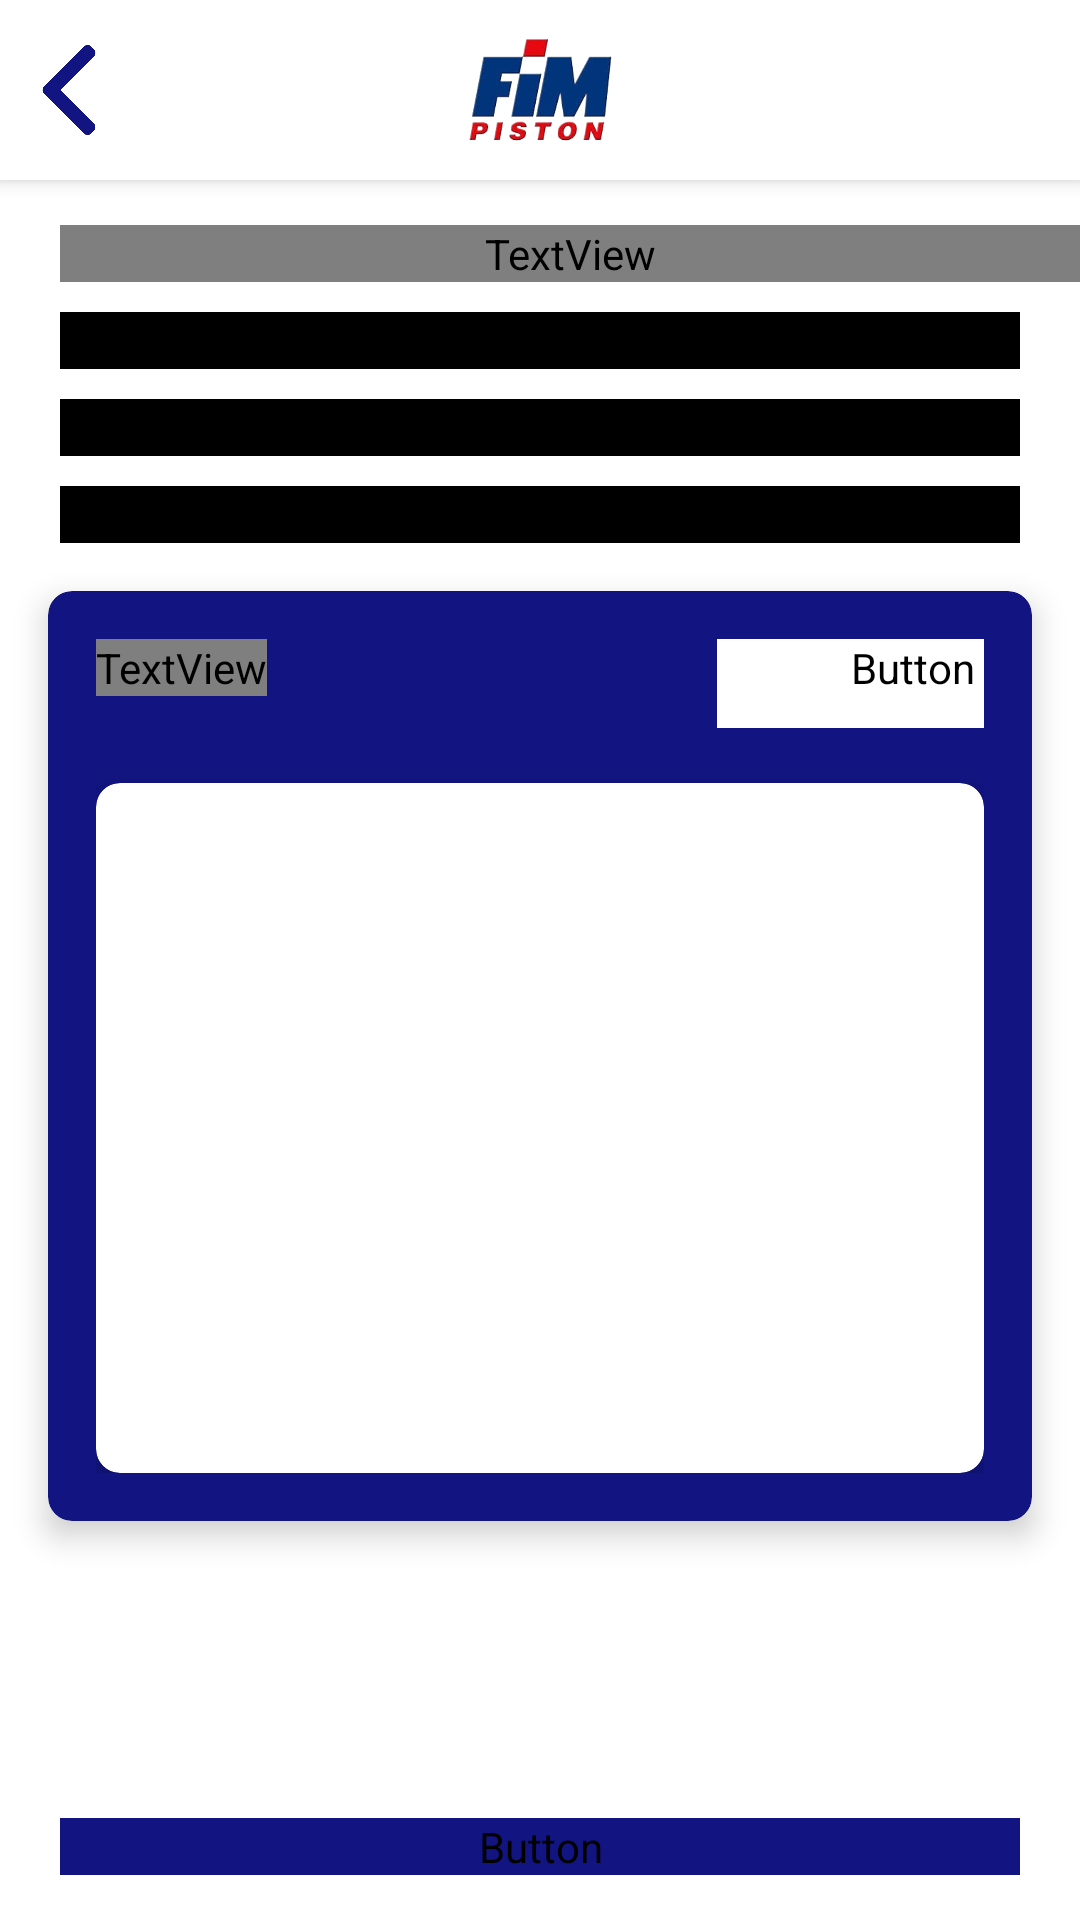

Screen size 1080w x 1920h. Icon name, then its center in pixels as (x=x, y=y):
left arrow: (x=69, y=90)
